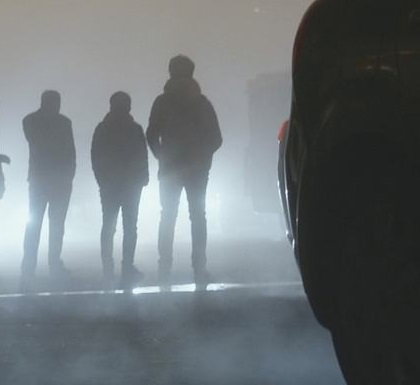person: (146, 54, 223, 290), (13, 86, 80, 284), (90, 88, 148, 284)
